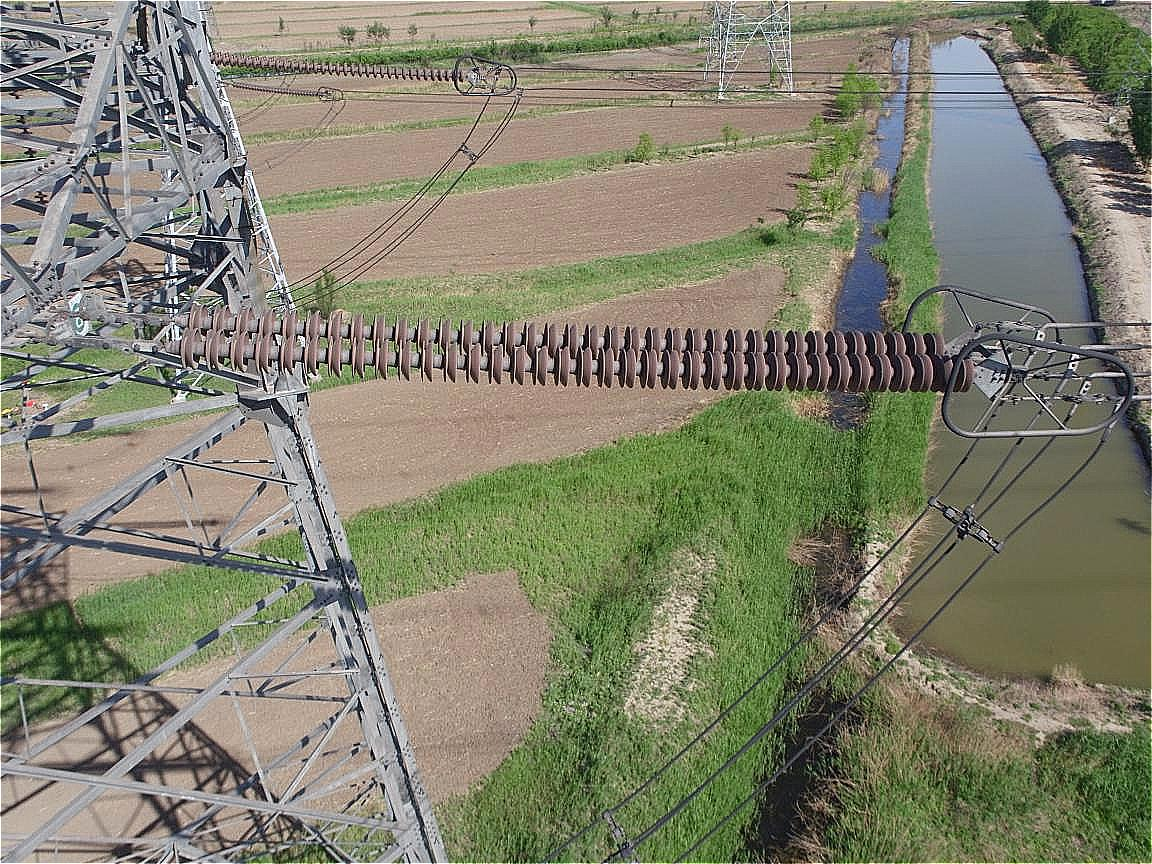insultor1: (201, 32, 482, 89)
insultor2: (158, 278, 989, 416)
